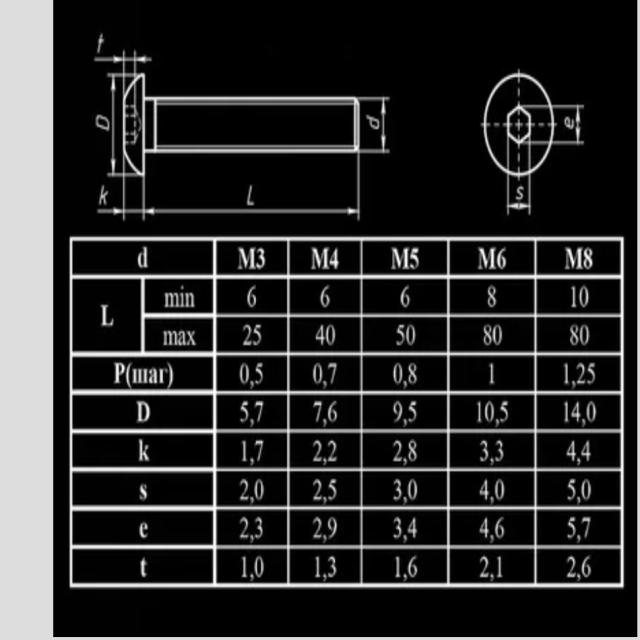marking_line: (146, 153, 369, 226), (98, 178, 155, 221), (106, 71, 124, 178), (361, 94, 390, 155), (91, 49, 153, 74), (555, 103, 585, 148), (504, 177, 533, 216)
numeric: (235, 516, 251, 540), (581, 513, 593, 545), (326, 397, 340, 424), (246, 283, 261, 308), (485, 285, 498, 311), (252, 515, 266, 539), (238, 477, 251, 502), (253, 553, 266, 578), (564, 555, 577, 580), (580, 477, 593, 502), (253, 438, 266, 462), (236, 555, 248, 580), (310, 439, 322, 464), (493, 477, 505, 502), (582, 555, 594, 580), (312, 359, 323, 386), (478, 438, 489, 465), (253, 478, 265, 502), (242, 322, 253, 348), (311, 399, 322, 425), (478, 477, 489, 503), (319, 285, 331, 308), (407, 554, 419, 577), (311, 516, 322, 540), (327, 478, 338, 502), (400, 286, 411, 310), (393, 440, 404, 464), (408, 479, 419, 503), (408, 516, 419, 540), (568, 323, 579, 347), (326, 555, 337, 578), (394, 324, 405, 347), (407, 361, 418, 384), (479, 516, 490, 539), (484, 400, 495, 423), (410, 246, 421, 269), (578, 285, 589, 308), (239, 400, 248, 428), (392, 399, 402, 424), (493, 324, 503, 349), (576, 361, 586, 386), (495, 438, 504, 465), (327, 517, 338, 539), (327, 440, 338, 462), (392, 363, 403, 385), (494, 517, 505, 539), (497, 247, 508, 269), (313, 479, 323, 503), (255, 399, 265, 423), (482, 322, 492, 346), (479, 556, 489, 580), (587, 362, 597, 386), (566, 516, 576, 540), (256, 360, 265, 386), (314, 325, 325, 346), (328, 362, 338, 385), (256, 248, 266, 271), (393, 479, 403, 502), (584, 247, 594, 270), (582, 439, 592, 462), (500, 400, 509, 425), (238, 363, 248, 385), (329, 246, 339, 268), (580, 324, 590, 346), (586, 400, 596, 422), (252, 323, 261, 347), (409, 400, 418, 424), (487, 360, 495, 387), (572, 400, 581, 424), (568, 478, 577, 502), (566, 441, 576, 462), (562, 362, 570, 388), (406, 323, 415, 346), (239, 440, 248, 462), (409, 439, 417, 463), (394, 516, 402, 540), (326, 324, 335, 345), (562, 400, 570, 422), (475, 399, 482, 423), (496, 555, 503, 579), (315, 554, 321, 581), (395, 555, 401, 579), (571, 285, 576, 310)
special_symbol: (570, 379, 578, 391), (400, 417, 407, 429), (322, 572, 329, 583), (580, 416, 587, 427), (575, 572, 582, 582), (249, 379, 255, 390), (322, 379, 328, 390), (321, 496, 328, 505), (493, 418, 500, 427), (249, 418, 255, 428), (321, 534, 327, 544), (322, 418, 328, 428), (402, 456, 408, 466), (576, 457, 582, 467), (250, 494, 255, 505), (403, 534, 408, 545), (489, 455, 494, 466), (576, 534, 581, 545), (249, 457, 255, 466), (249, 535, 255, 544), (489, 496, 495, 505), (576, 496, 582, 505), (322, 455, 327, 465), (403, 496, 408, 506), (490, 534, 495, 544), (403, 379, 407, 391), (489, 574, 494, 582), (250, 573, 254, 582), (403, 574, 407, 581)
